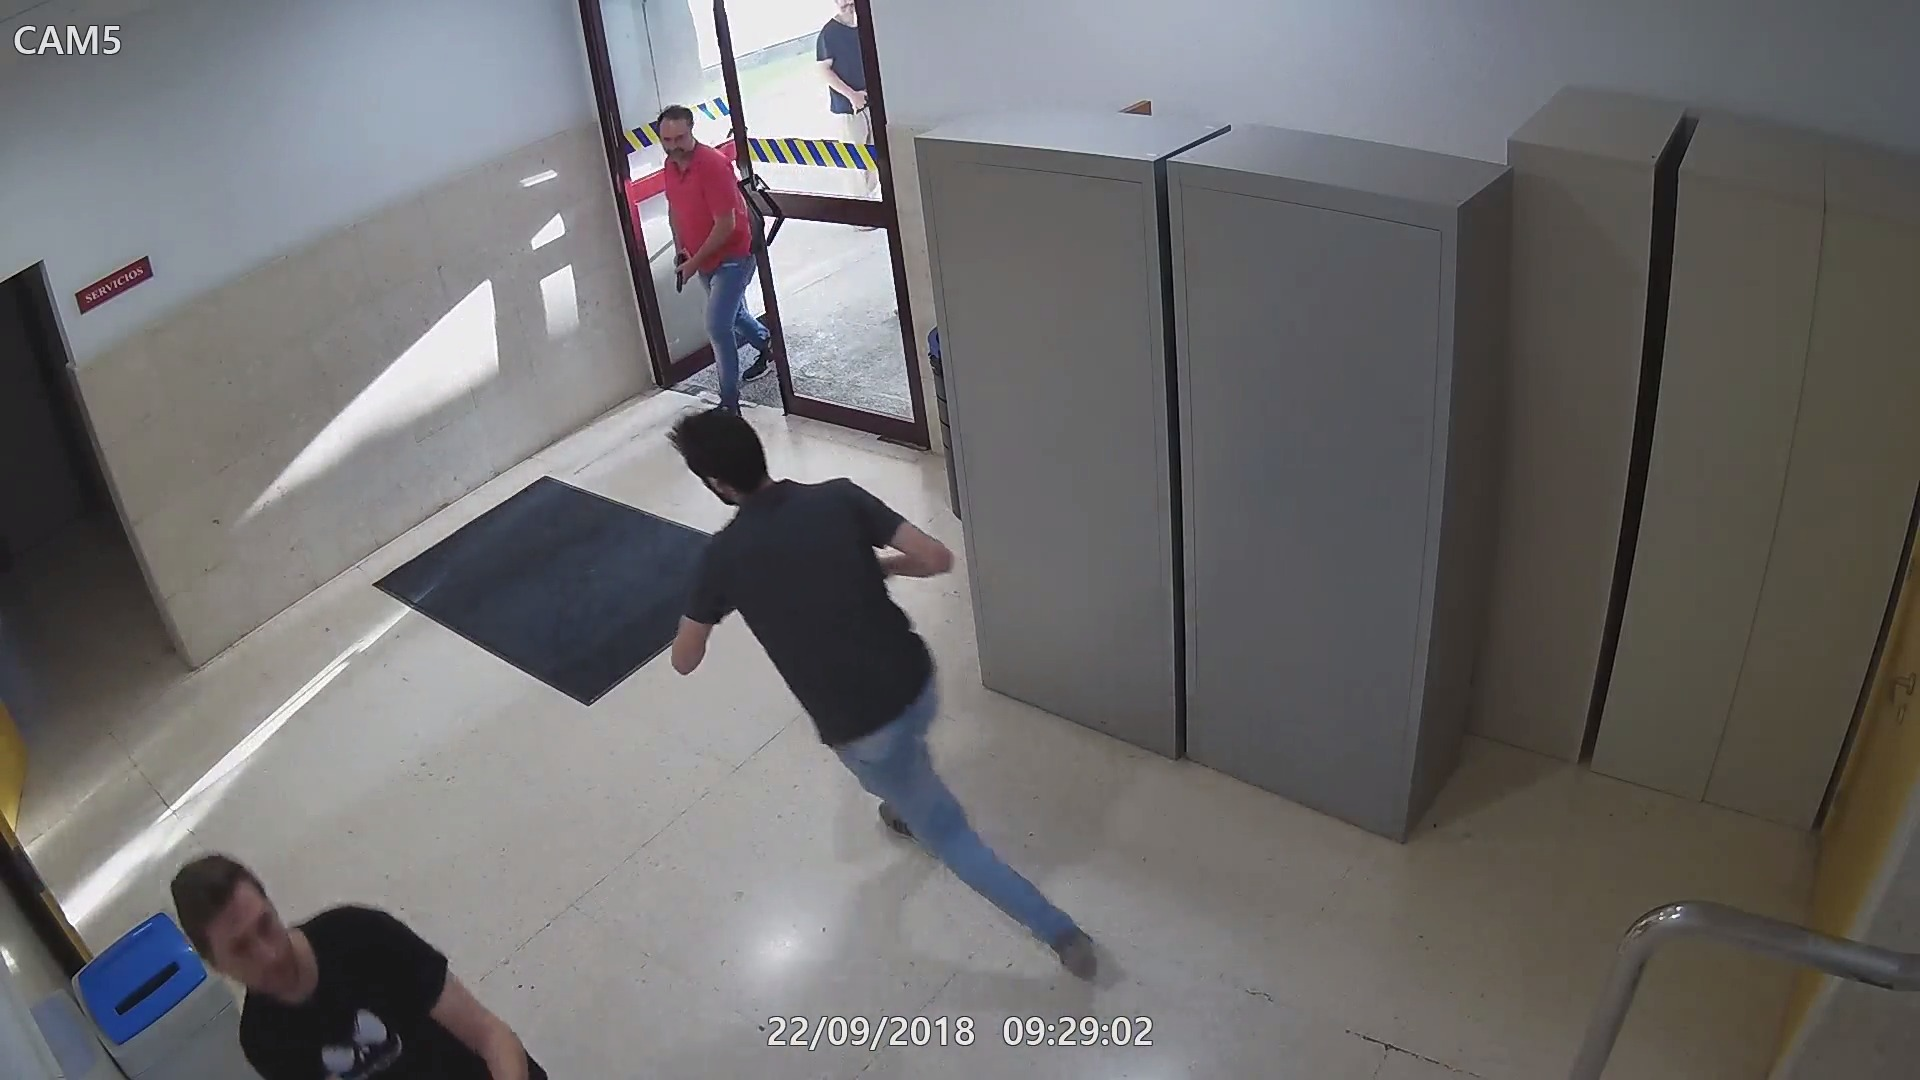Handgun: (669, 248, 698, 301)
